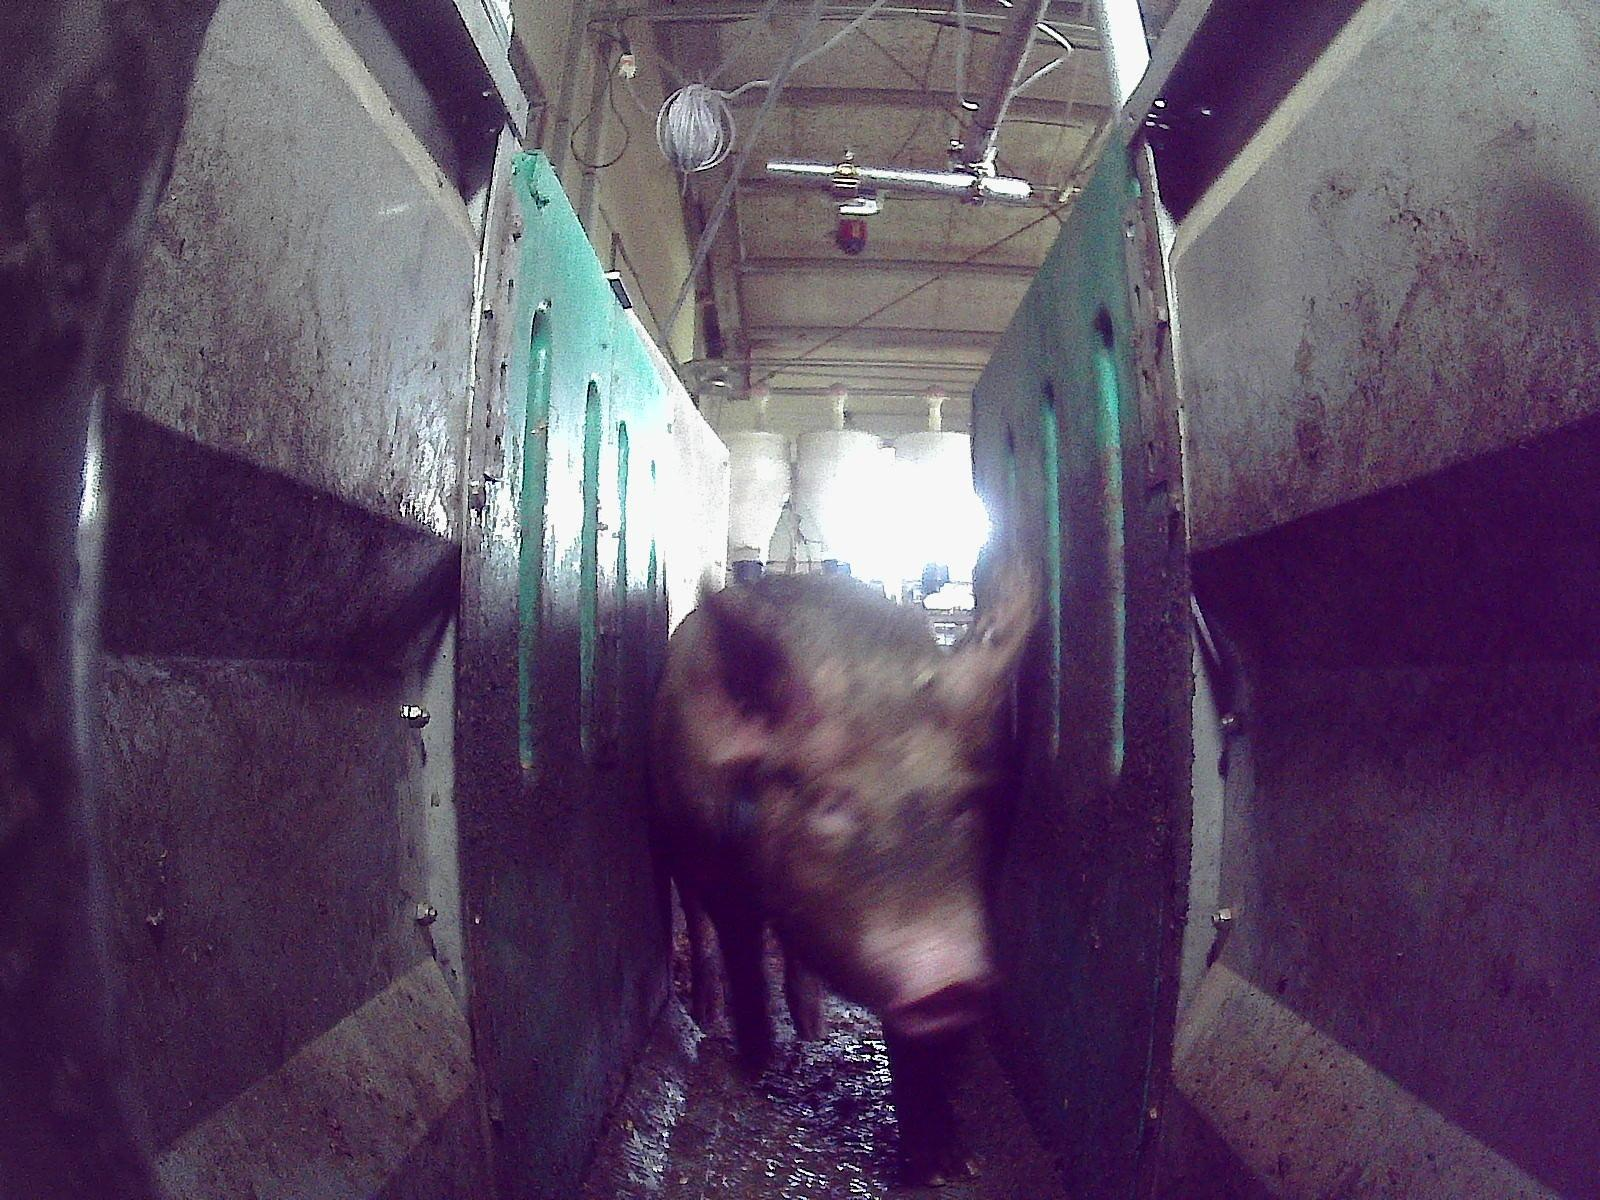Face: (748, 654, 1004, 1033)
